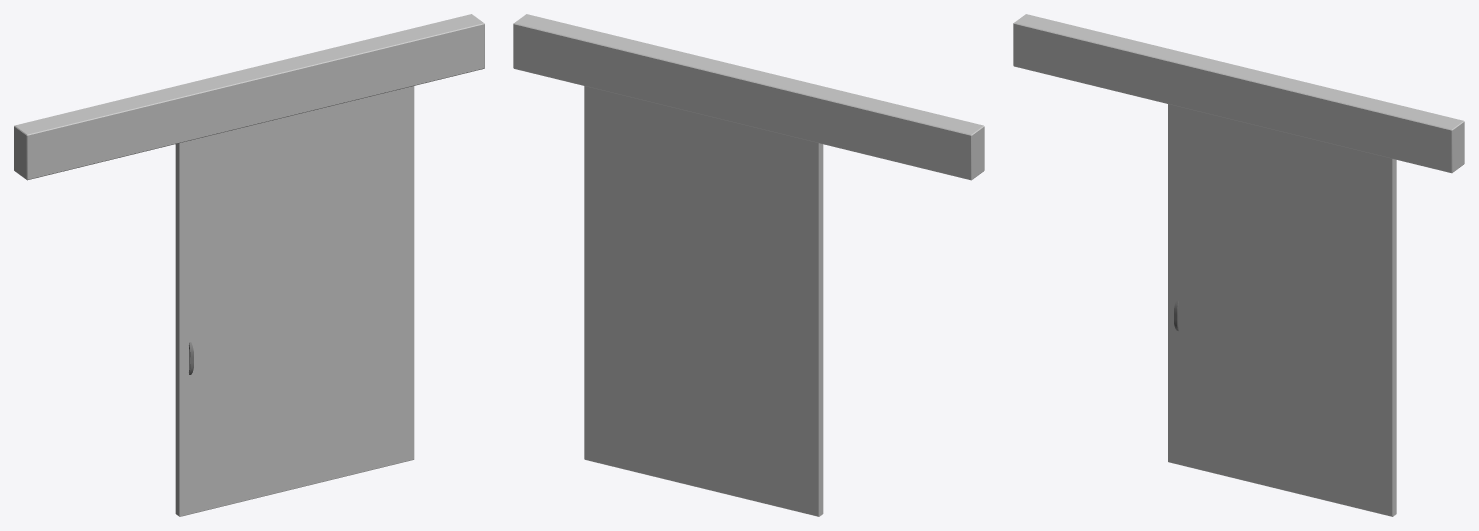
The model's file is SlidingDoor_01.fbx.
3 renders of one model, left to right at view 1: azimuth 30°, elevation 25°; view 2: azimuth 150°, elevation 25°; view 3: azimuth 330°, elevation 25°, orthographic. The views are drawn at different scales.
Visible parts, largest first — view 1: Door_01, Hinge_01; view 2: Door_01, Hinge_01; view 3: Door_01, Hinge_01.
Boxes of the visible parts, box(x1,y1,x2,y2) form: Door_01: box(175, 86, 414, 516); Hinge_01: box(14, 14, 484, 180); Door_01: box(584, 86, 823, 516); Hinge_01: box(513, 14, 984, 180); Door_01: box(1168, 104, 1396, 516); Hinge_01: box(1013, 14, 1464, 173).
Size of the model in its own units: 107 by 94.81 by 5.4.
